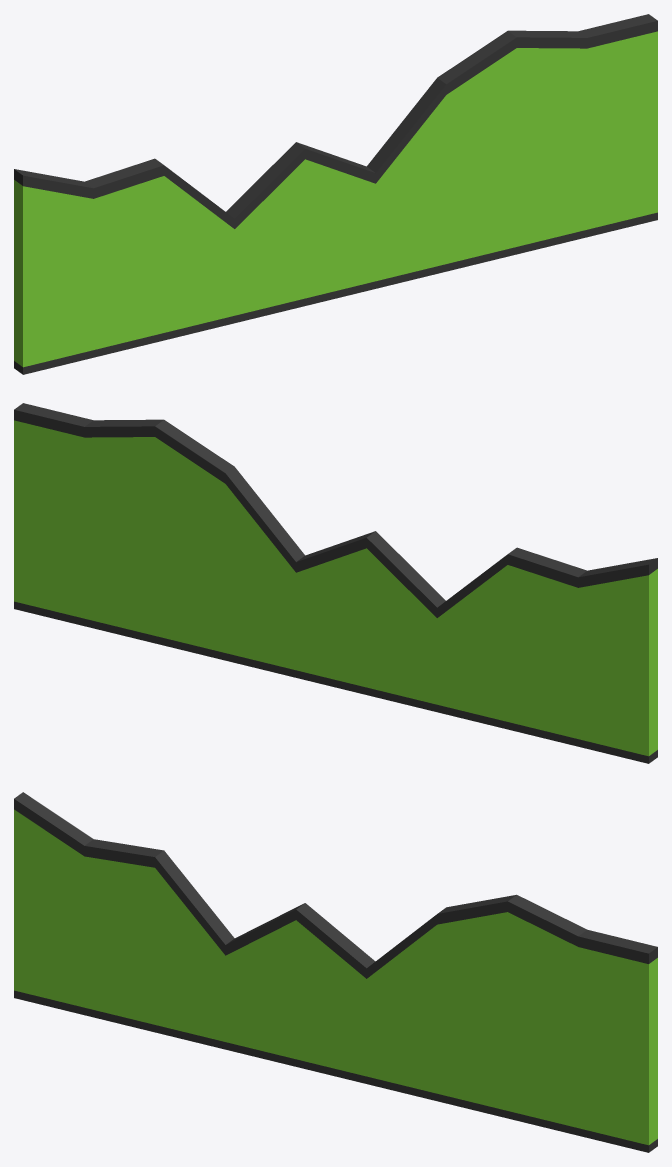
Rendered from hill2.fbx.
3 renders of one model, top to bottom at view 1: azimuth 30°, elevation 25°; view 2: azimuth 150°, elevation 25°; view 3: azimuth 330°, elevation 25°, orthographic.
Parts seen in each view (by area): view 1: Hill 2; view 2: Hill 2; view 3: Hill 2.
Part boxes in pixels (box(x1,y1,x2,y2)): Hill 2: box(14, 14, 657, 374); Hill 2: box(14, 403, 657, 763); Hill 2: box(14, 792, 657, 1152).
Bounding box in the file's own units: 800 × 20 × 261.
